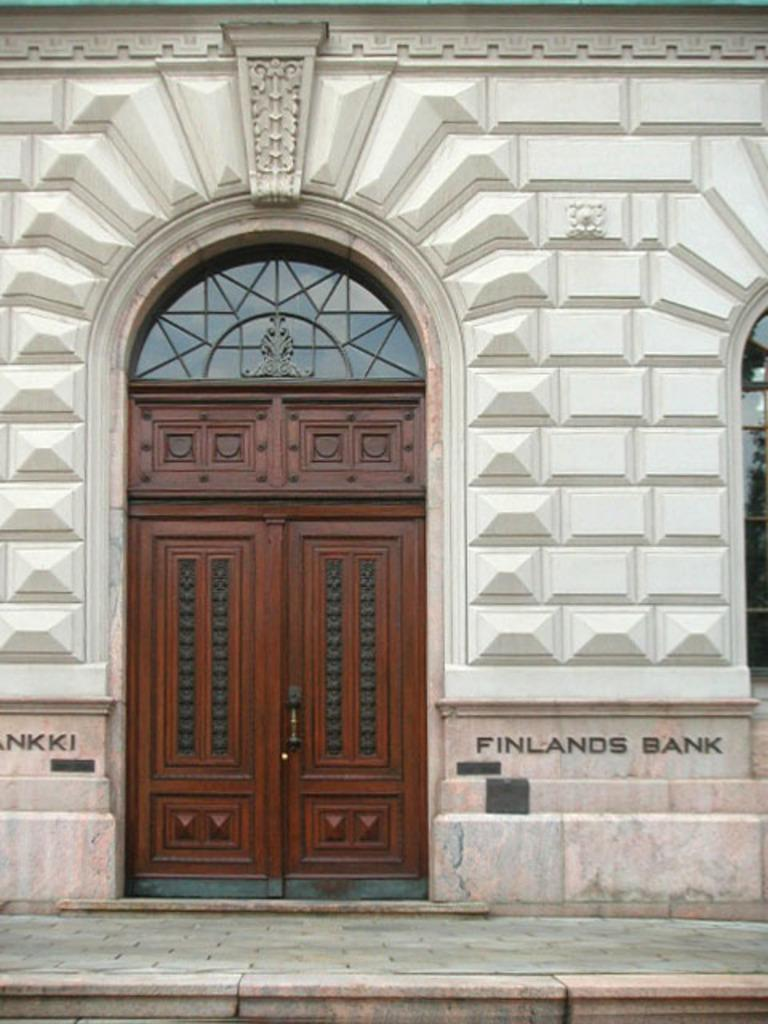door: (143, 524, 273, 874), (286, 518, 414, 870)
handle: (288, 704, 302, 757)
